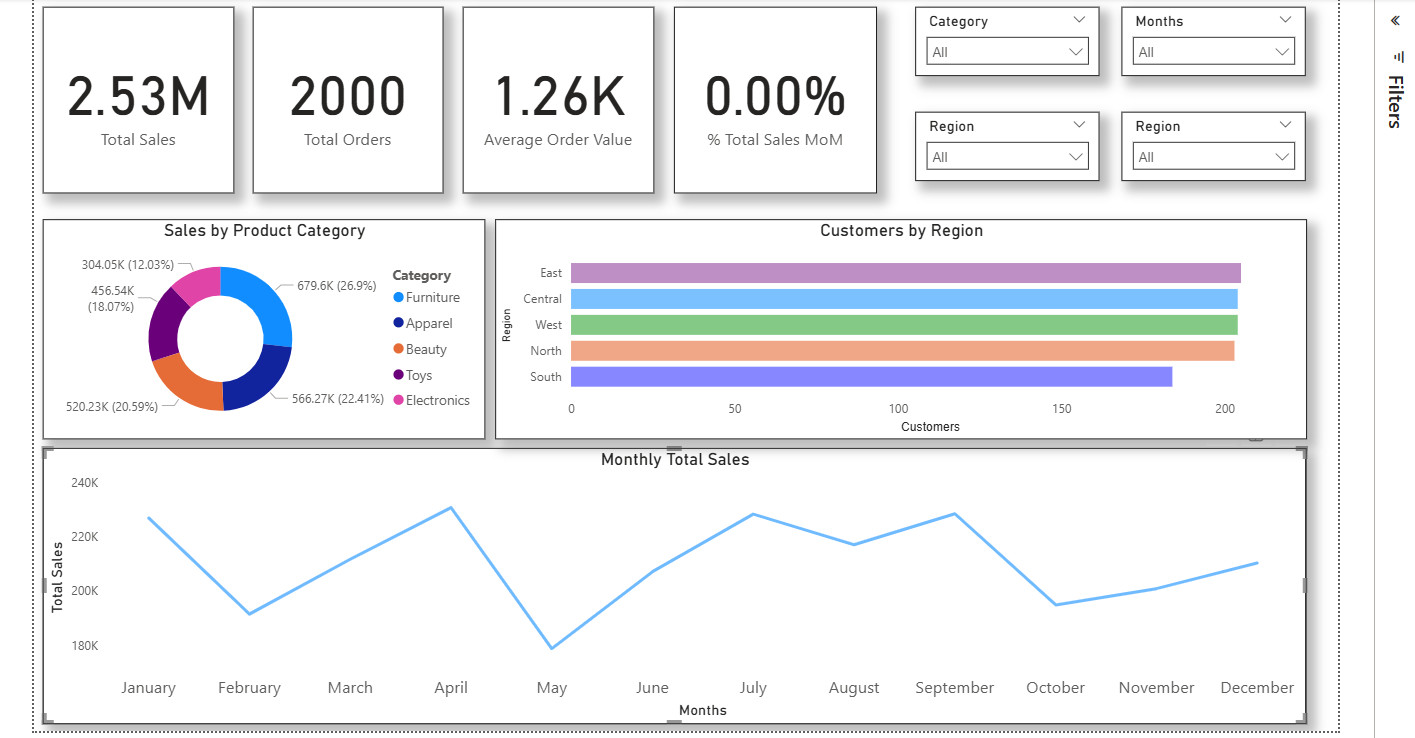

Layout of this report page (visuals, bound fields, positions):
{"tool":"powerbi","page":{"name":"Page 1","canvas":[1280,720],"ordinal":0},"visuals":[{"type":"card","fields":{"Values":["Sum(Orders.TotalSales)"]},"box":[9.1,8,188.1,183.1],"z":0},{"type":"card","fields":{"Values":["CountNonNull(Orders.OrderID)"]},"box":[214.2,8,187.1,183.1],"z":1},{"type":"donutChart","title":"Sales by Product Category","fields":{"Y":["Sum(Orders.TotalSales)"],"Category":["Products xlsx.Category"]},"box":[9.1,217.2,434.5,216.2],"z":2},{"type":"lineChart","title":"Monthly Total Sales","fields":{"Y":["Sum(Orders.TotalSales)"],"Category":["Orders.OrderDate.Variation.Date Hierarchy.Month"]},"box":[9.1,441.5,1240.1,271.6],"z":3},{"type":"barChart","title":"Customers by Region","fields":{"Category":["Customers.Region"],"Y":["CountNonNull(Customers.CustomerID)"]},"box":[452.6,217.2,796.6,216.2],"z":4},{"type":"card","fields":{"Values":["Orders.Avg_val"]},"box":[421.4,8,188.1,183.1],"z":5},{"type":"slicer","fields":{"Values":["Orders.OrderDate.Variation.Date Hierarchy.Year","Orders.OrderDate.Variation.Date Hierarchy.Month"]},"box":[1068,8.3,180.9,68.2],"z":6},{"type":"card","fields":{"Values":["Customers.Sum of TotalSales MoM%"]},"box":[628.6,8.3,199.5,183],"z":7},{"type":"slicer","title":"Product","fields":{"Values":["Products xlsx.Category"]},"box":[865.4,8.3,180.9,68.2],"z":8},{"type":"slicer","title":"Product","fields":{"Values":["Customers.Region"]},"box":[865.4,111.7,180.9,68.2],"z":9},{"type":"slicer","title":"Product","fields":{"Values":["Customers.Gender"]},"box":[1068,111.7,180.9,68.2],"z":10}]}

Visuals, with their boxes in screenshot pixels (x1, y1, x2, y2):
card - Sum(Orders.TotalSales): [46, 8, 236, 193]
card - CountNonNull(Orders.OrderID): [253, 8, 442, 193]
"Sales by Product Category" donutChart: [46, 219, 485, 437]
"Monthly Total Sales" lineChart: [46, 446, 1298, 720]
"Customers by Region" barChart: [494, 219, 1298, 437]
card - Orders.Avg_val: [462, 8, 652, 193]
slicer - Orders.OrderDate.Variation.Date Hierarchy.Year x Orders.OrderDate.Variation.Date Hierarchy.Month: [1115, 8, 1298, 77]
card - Customers.Sum of TotalSales MoM%: [671, 8, 873, 193]
"Product" slicer: [910, 8, 1093, 77]
"Product" slicer: [910, 113, 1093, 182]
"Product" slicer: [1115, 113, 1298, 182]
